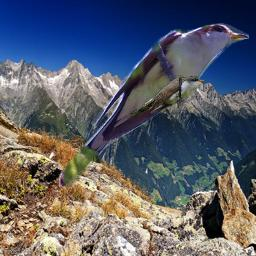Cuckoo: (59, 23, 249, 187), (127, 75, 205, 116)
